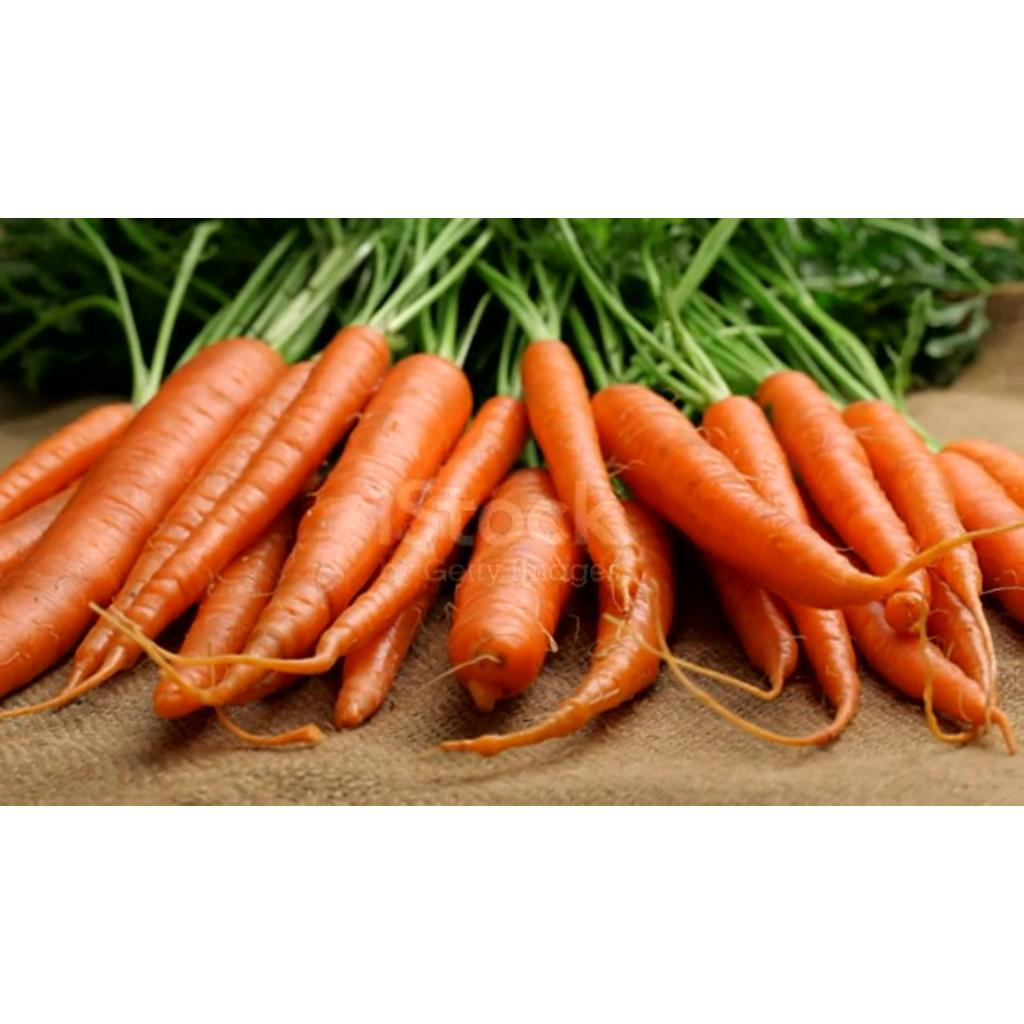carrot: (0, 338, 284, 695), (102, 326, 390, 673), (215, 356, 472, 704), (79, 362, 313, 685), (592, 384, 902, 610), (316, 396, 528, 657), (757, 371, 931, 635), (497, 504, 673, 755), (448, 468, 582, 711), (522, 340, 638, 613), (151, 503, 294, 723), (844, 402, 981, 620), (842, 602, 986, 727), (0, 404, 136, 523), (938, 452, 1024, 633), (334, 584, 437, 727), (702, 396, 810, 523), (705, 554, 798, 695), (787, 602, 860, 745), (0, 480, 79, 579), (946, 440, 1024, 507)
